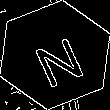N_NW: (25, 24, 85, 86)
